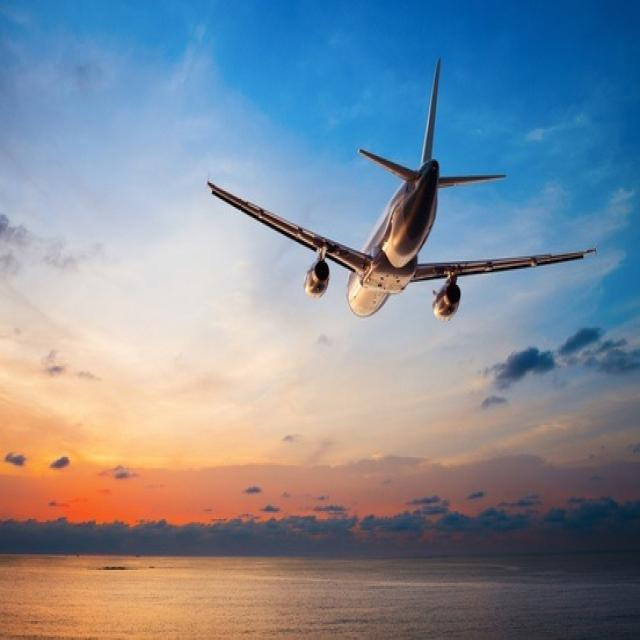aircraft: (188, 21, 640, 360)
